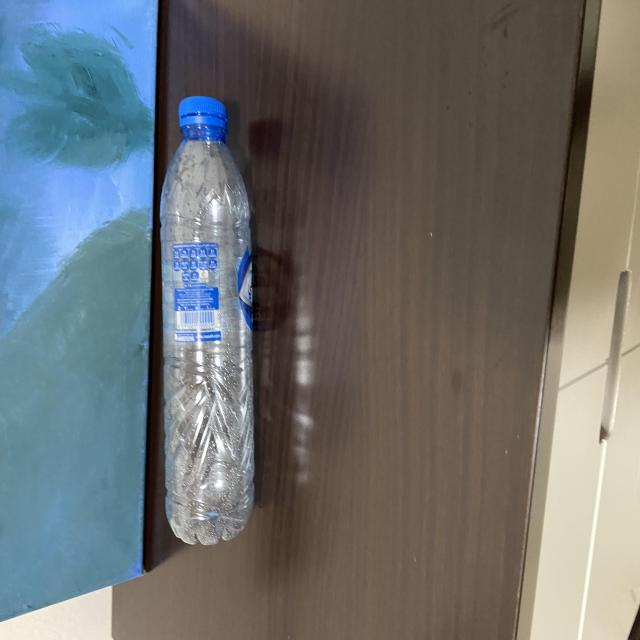bottle: (150, 87, 258, 548)
